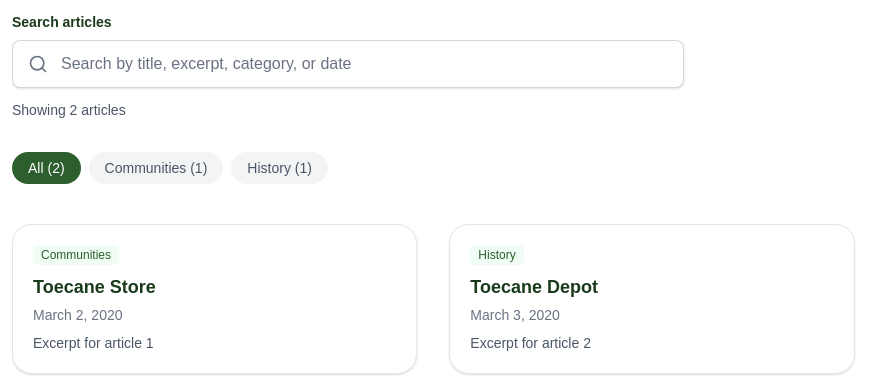
Test: ArticlesList › combines search and category filters
Click the button "History (1)". click: click(280, 168)
box: [231,152,328,184]
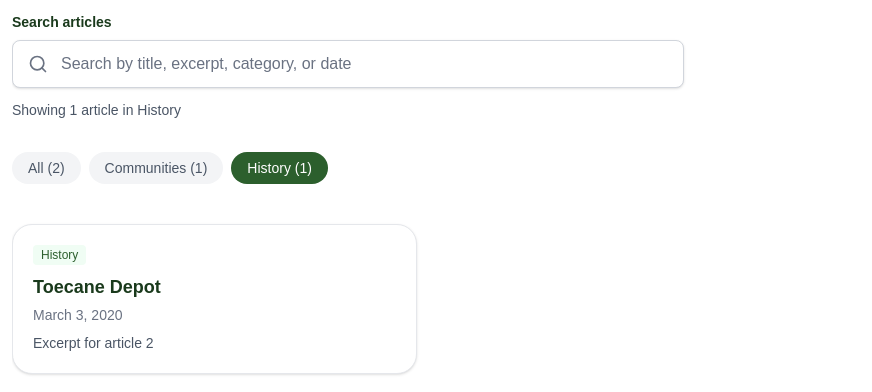
Type "toecane" into the search field labelled "Search articles". click: (348, 64)
box: [12,40,684,88]
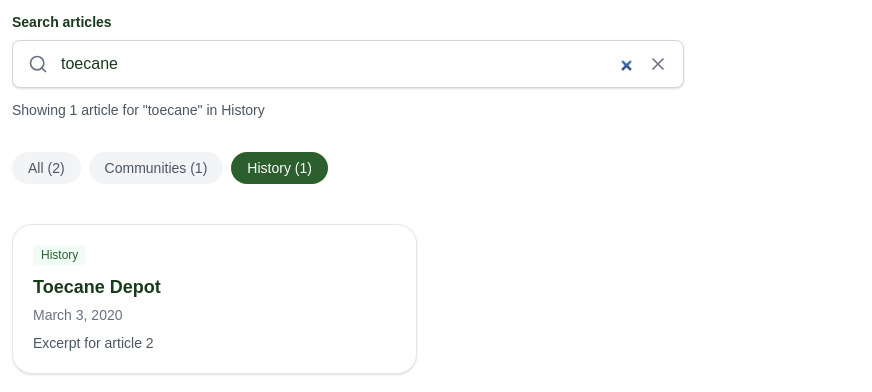
Check: the heading "Toecane Depot" is shown, box [33,277,161,297]
Check: the text "Showing 1 article for \"toecane\" in History" is shown, box [12,102,265,118]
